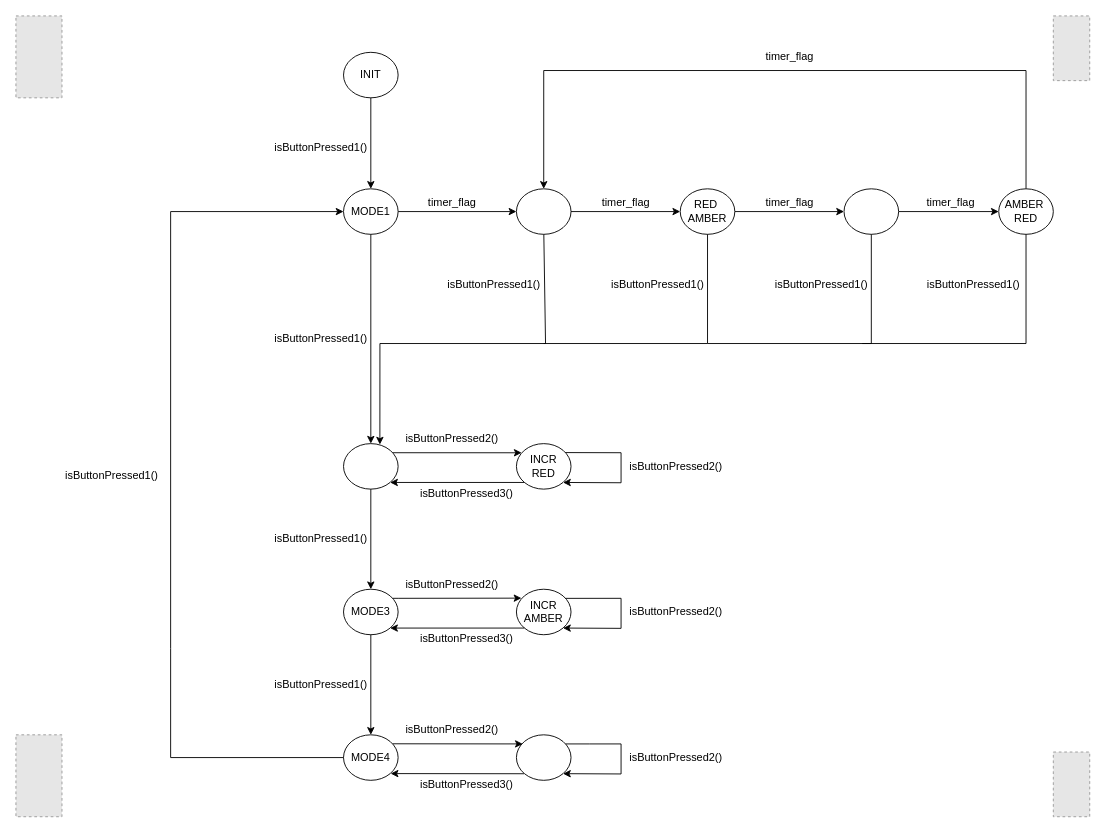
Image size: 1106x833. Some labels were removed from this diagram. Grey dashed boxes stand in for pictures. Here are the shapes that lost their labels. From the top down, the centre of each, then its label:
At (543,211): "RED GREEN".
At (871,211): "GREEN RED".
At (370,466): "MODE2".
At (543,757): "INCR GREEN".
